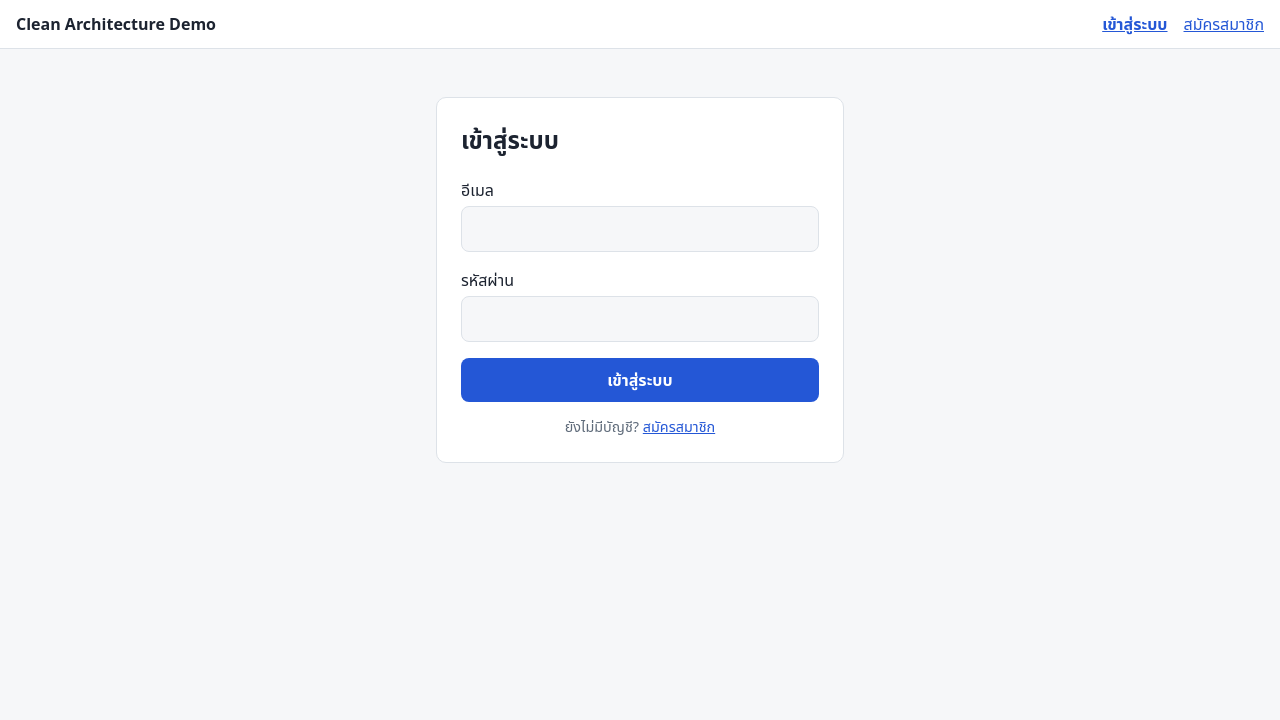
LoginPage › shows a generic message for wrong credentials and lets the user retry
Type "jane@example.com" into the field labelled "อีเมล" at (640, 229), box [461,206,819,252]
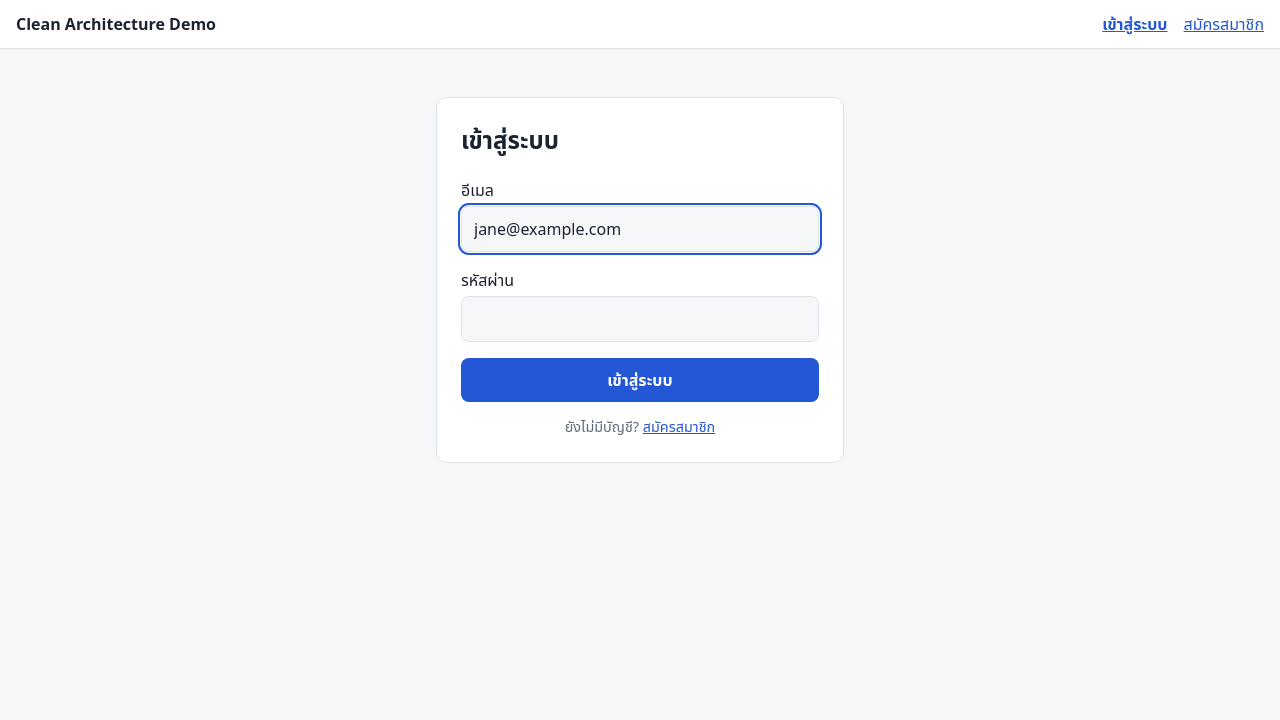
Type "wrong-pass" into the password field labelled "รหัสผ่าน" at (640, 319), box [461,296,819,342]
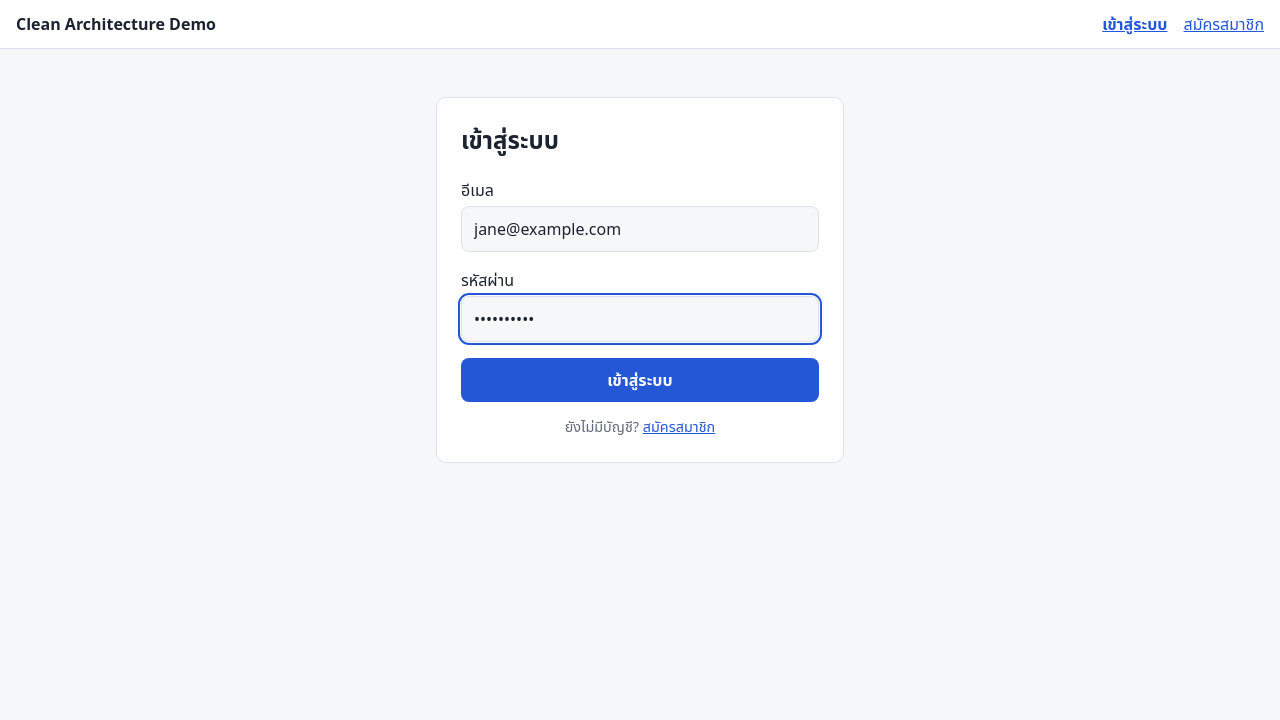
Click the button "เข้าสู่ระบบ" at (640, 380), box [461,358,819,402]
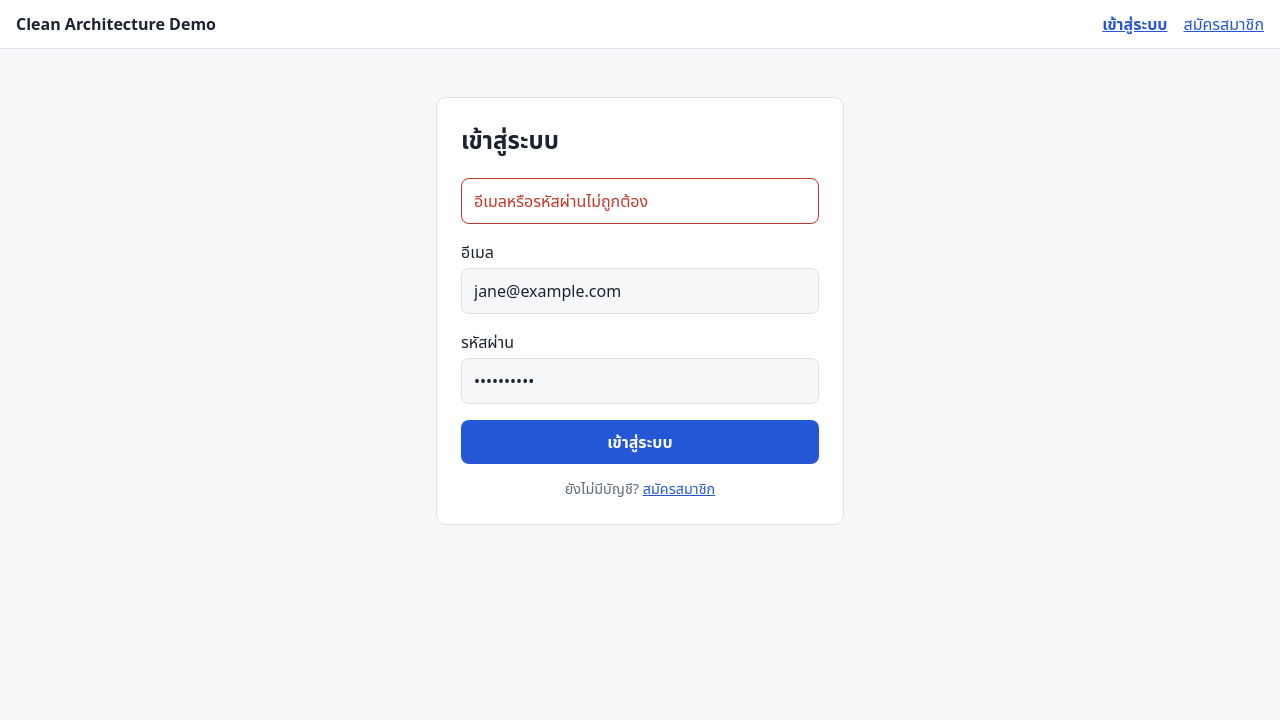
Expected: the button "เข้าสู่ระบบ" is enabled, [461,420,819,464]
Expected: the message reads "อีเมลหรือรหัสผ่านไม่ถูกต้อง", [474,190,648,212]
